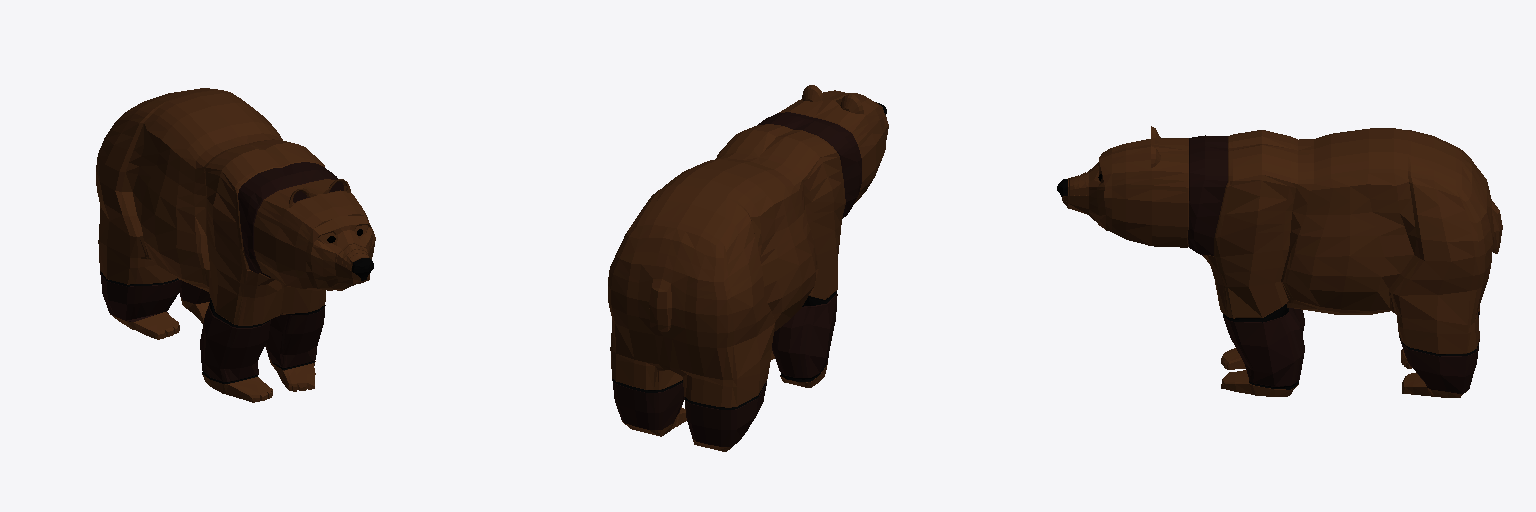
File: Bear_Trial.obj
The picture shows the model from 3 angles: view 1: azimuth 30°, elevation 25°; view 2: azimuth 150°, elevation 25°; view 3: azimuth 270°, elevation 25°; orthographic projection.
Parts seen in each view (by area): view 1: pCube5; view 2: pCube5; view 3: pCube5.
Part boxes in pixels (x1,y1,x2,y2): pCube5: (96, 88, 375, 402); pCube5: (608, 85, 888, 451); pCube5: (1057, 126, 1502, 397).
Size of the model in its own units: 4.29 by 6.89 by 11.67.